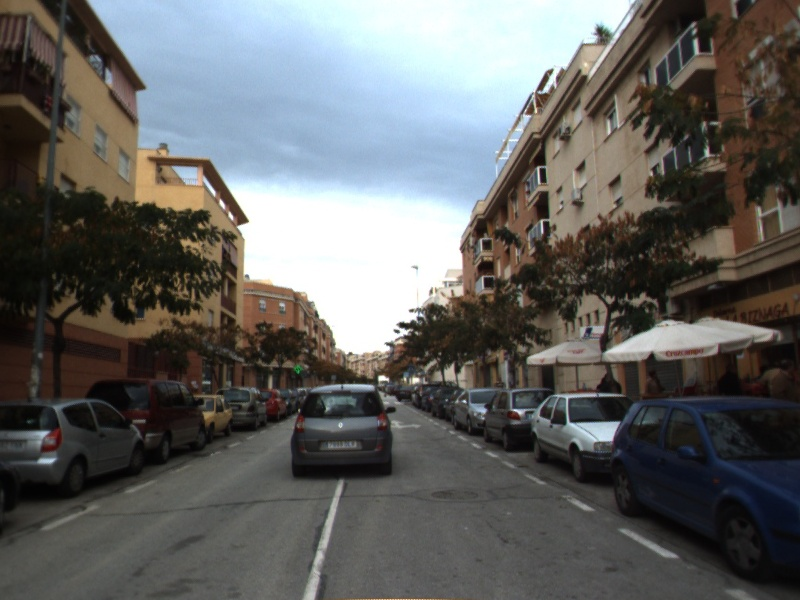STRAIGHT_RIGHT: (389, 418, 424, 431)
